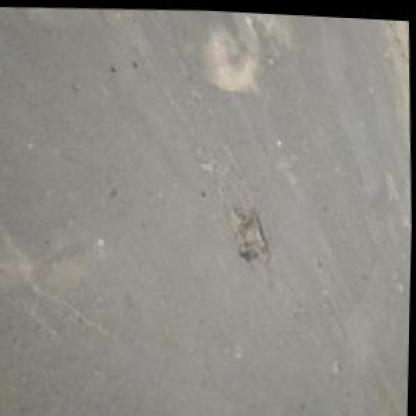pothole: (226, 203, 273, 266), (383, 165, 402, 201), (330, 354, 344, 377)
